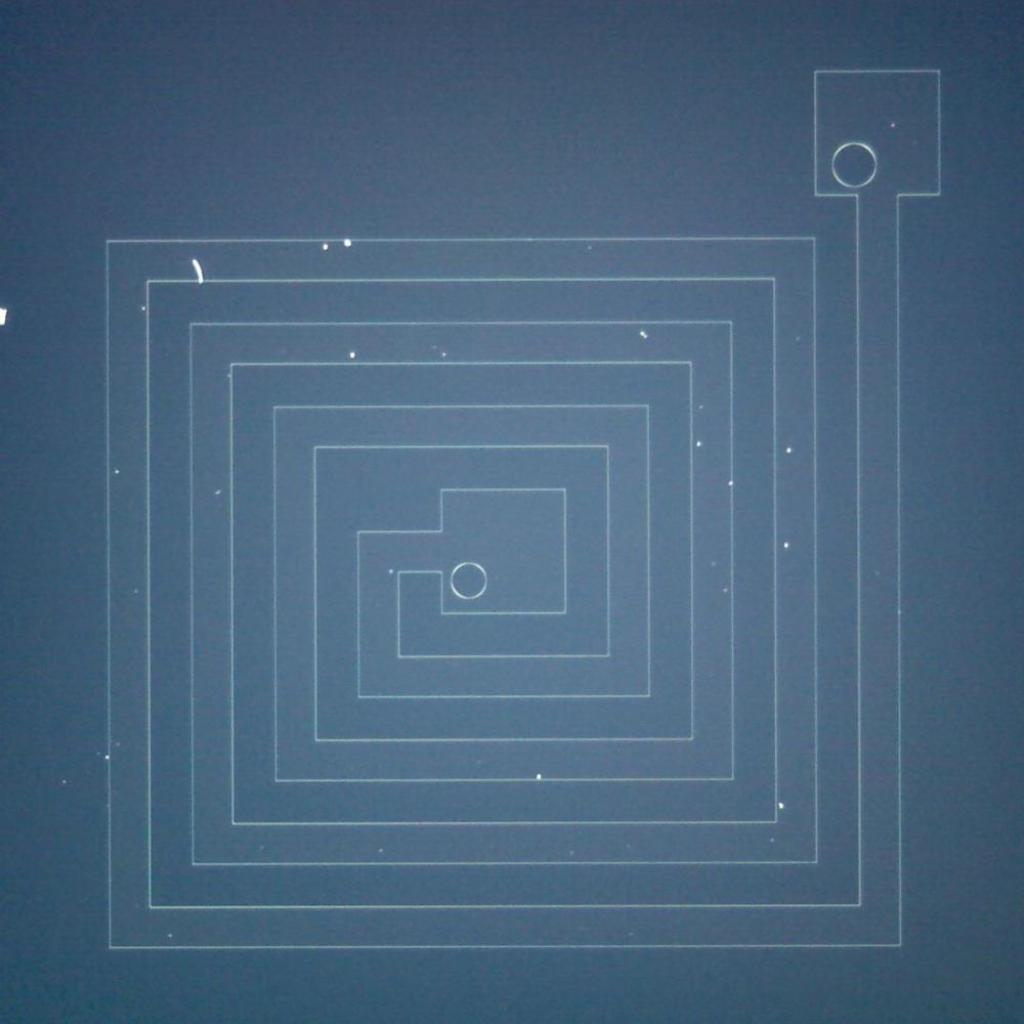circle: (830, 136, 878, 191), (446, 555, 492, 604)
dot: (336, 228, 362, 256), (95, 747, 122, 773), (776, 531, 799, 560), (374, 559, 403, 582), (528, 762, 552, 788), (778, 435, 800, 463), (687, 432, 712, 456), (768, 794, 794, 817), (315, 233, 338, 257), (205, 480, 228, 504), (102, 460, 127, 482), (717, 472, 742, 493), (131, 297, 156, 317), (340, 346, 365, 364)
